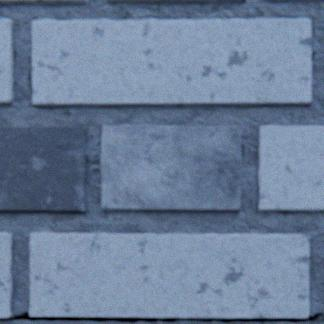brick: (32, 20, 310, 107), (30, 233, 308, 317), (101, 125, 240, 212), (0, 127, 87, 213), (258, 126, 323, 212), (0, 20, 13, 106), (0, 233, 13, 317), (108, 0, 245, 4), (0, 0, 87, 5), (264, 0, 323, 2)
crack: (0, 311, 323, 323)
